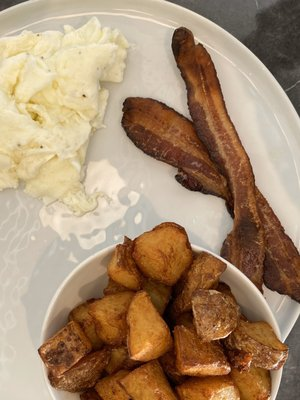burger: (167, 26, 300, 301)
curry: (0, 0, 300, 400)
